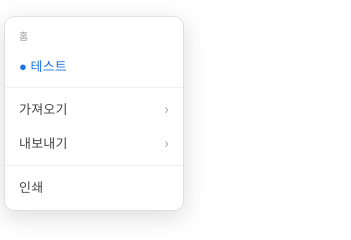
Test: 햄버거 메뉴 가져오기 서브창 › 다시 누르면 접힌다
Click the text "가져오기". click: click(43, 109)
box: x1=19 y1=99 x2=169 y2=118
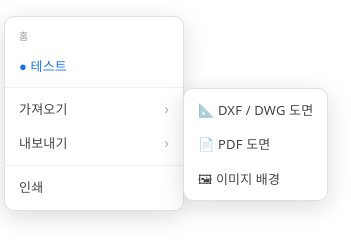
Now the text "📄 PDF 도면" is shown, box x1=198 y1=135 x2=270 y2=153
Click the text "가져오기". click: click(43, 109)
box: x1=5 y1=92 x2=183 y2=126
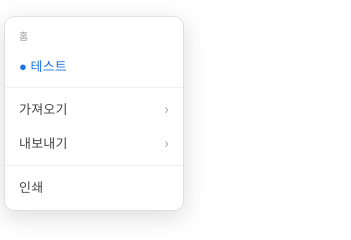
Now the text "📄 PDF 도면" is gone
